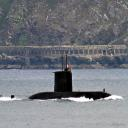submarine: (12, 49, 117, 100)
